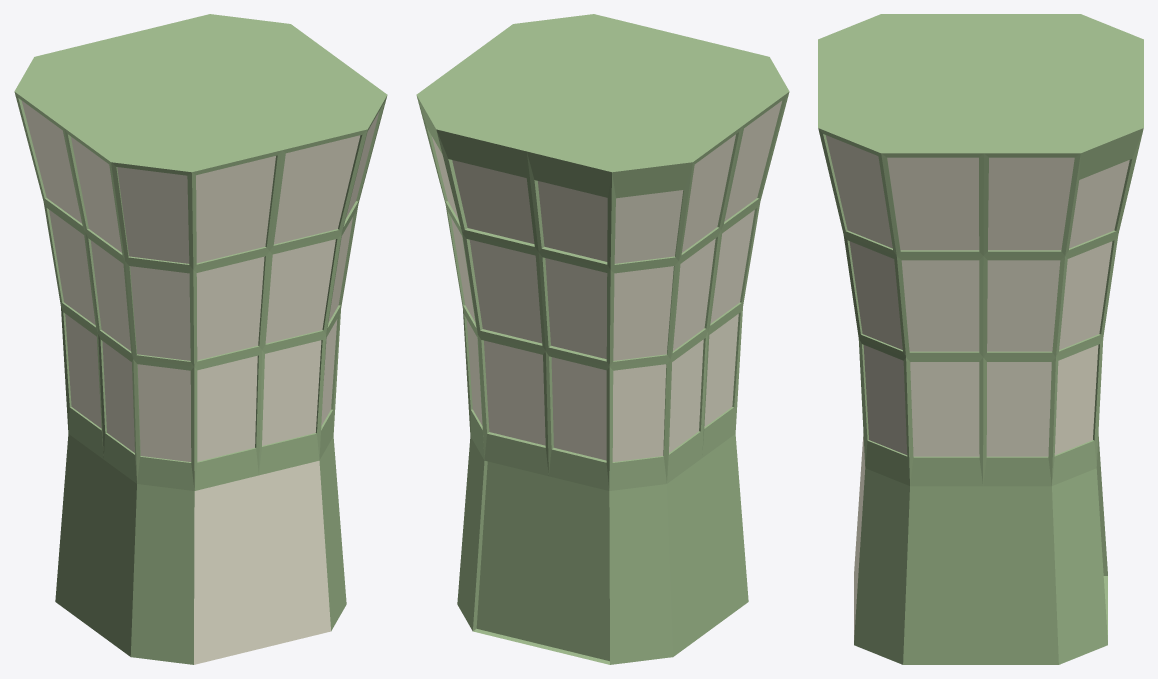
The model's file is cidade_predio03.FBX.
The picture shows the model from 3 angles, left to right: view 1: azimuth 30°, elevation 25°; view 2: azimuth 150°, elevation 25°; view 3: azimuth 270°, elevation 25°; orthographic projection. The views are drawn at different scales.
Visible parts, largest first — view 1: Cidade_Predio_03; view 2: Cidade_Predio_03; view 3: Cidade_Predio_03.
Boxes of the visible parts, x1,y1,x2,y2 form: Cidade_Predio_03: (14,14,387,664); Cidade_Predio_03: (416,14,789,664); Cidade_Predio_03: (818,14,1143,664).
Size of the model in its own units: 11.55 by 11.4 by 20.35.
